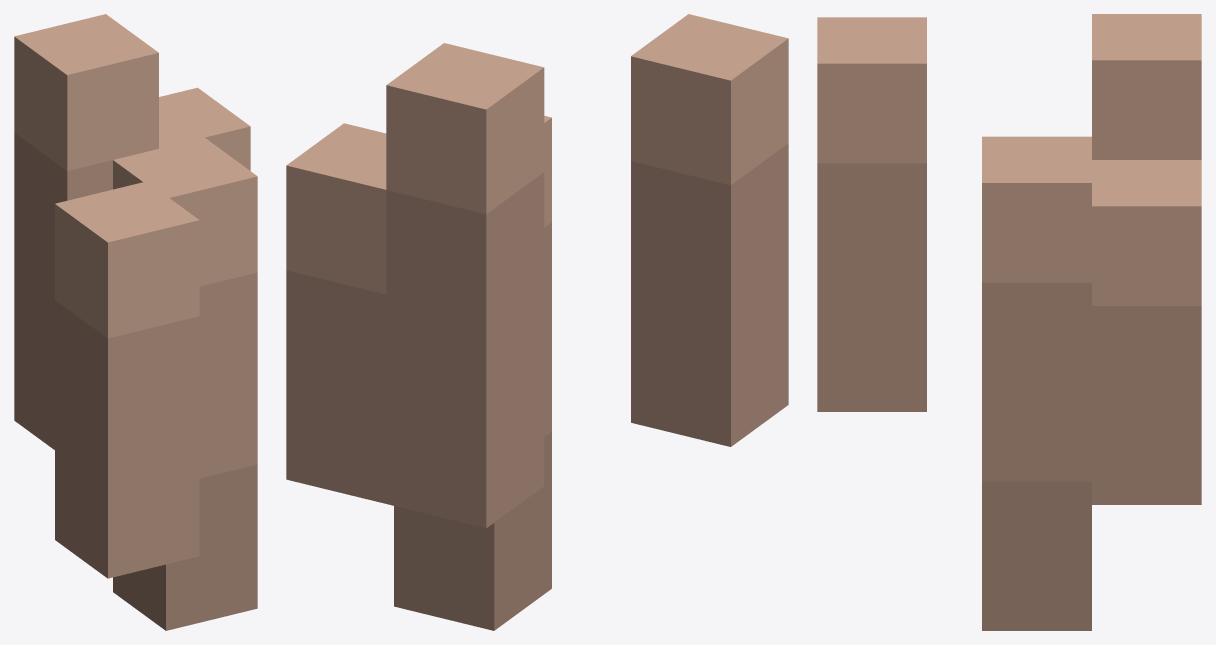
The model's file is coral_cerebro_04.glb.
3 renders of one model, left to right at view 1: azimuth 30°, elevation 25°; view 2: azimuth 150°, elevation 25°; view 3: azimuth 270°, elevation 25°, orthographic. The views are drawn at different scales.
Parts seen in each view (by area): view 1: coral_cerebro_04; view 2: coral_cerebro_04; view 3: coral_cerebro_04.
Part boxes in pixels (<box>): coral_cerebro_04: <box>14,14,257,630</box>; coral_cerebro_04: <box>286,14,788,630</box>; coral_cerebro_04: <box>817,14,1201,630</box>.
Size of the model in its own units: 0.6 by 1.1 by 0.7.
